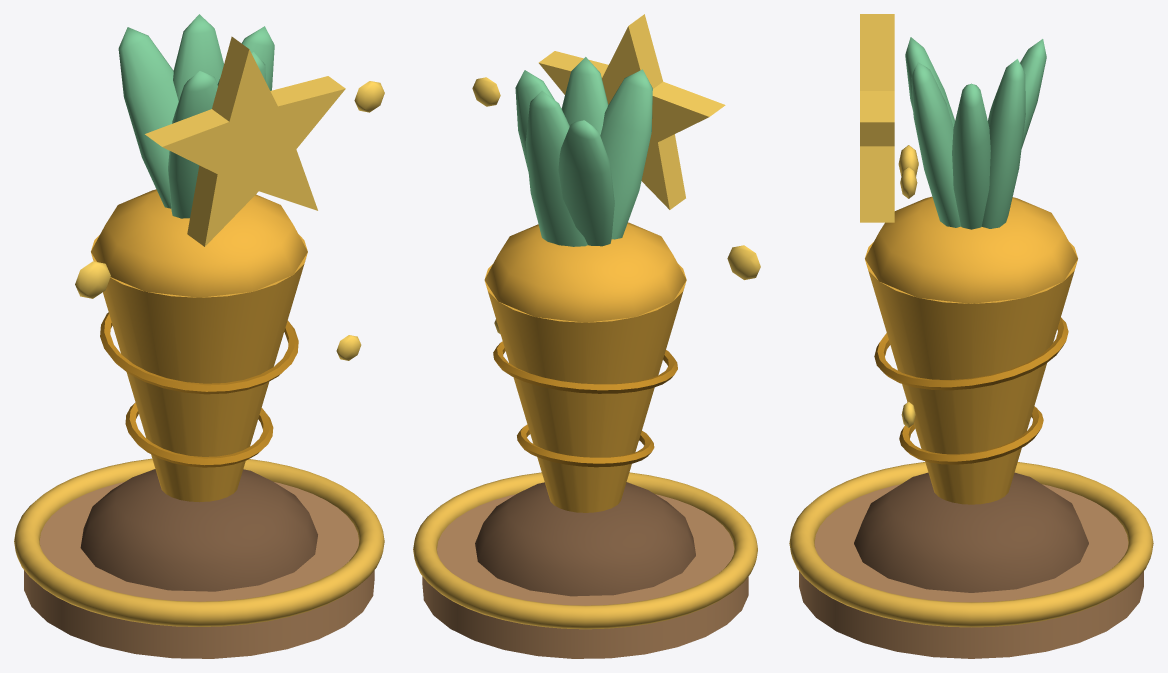
Rendered from gfree_sternmoehre.glb.
The picture shows the model from 3 angles, left to right: view 1: azimuth 30°, elevation 25°; view 2: azimuth 150°, elevation 25°; view 3: azimuth 270°, elevation 25°; orthographic projection. The views are drawn at different scales.
Parts seen in each view (by area): view 1: gfree_sternmoehre; view 2: gfree_sternmoehre; view 3: gfree_sternmoehre.
Part boxes in pixels (box(x1,y1,x2,y2)): gfree_sternmoehre: box(14, 14, 384, 658); gfree_sternmoehre: box(413, 14, 760, 658); gfree_sternmoehre: box(789, 14, 1153, 658).
Size of the model in its own units: 0.464 by 0.7997 by 0.464.
